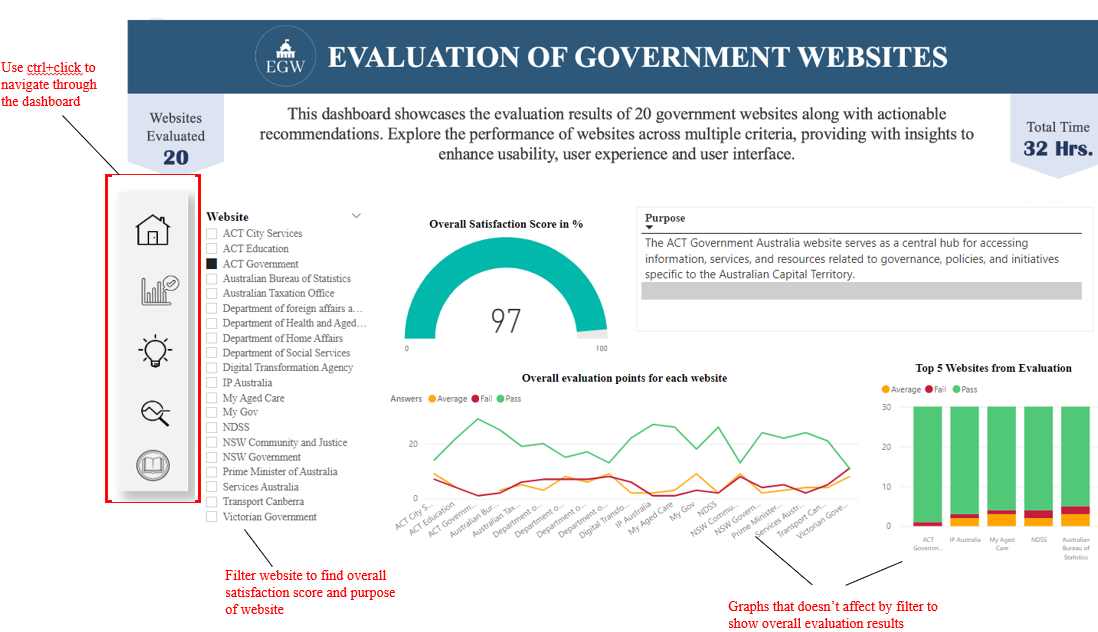

The page's visual inventory and layout, read from the dashboard file:
{"tool":"powerbi","page":{"name":"Homepage","canvas":[1280,720],"ordinal":0},"visuals":[{"type":"tableEx","fields":{"Values":["sheet1final.Purpose"]},"box":[662.6,243.5,584.2,159.2],"z":1000},{"type":"gauge","title":"Overall Satisfaction Score in %","fields":{"Y":["Sum(sheet1final.Satisfaction Score)"],"MinValue":["Sum(Table1.Minimum)"],"MaxValue":["Sum(Table2.Maximum)"]},"box":[361.8,256.4,269.3,185],"z":2000},{"type":"slicer","fields":{"Values":["sheet1final.Website"]},"box":[100,242.5,223.8,436.2],"z":3000},{"type":"columnChart","title":"Top 5 Websites from Evaluation","fields":{"Category":["filtered.Website"],"Y":["Sum(filtered.Average)","Sum(filtered.Fail )","Sum(filtered.Pass)"]},"box":[970.5,441.4,296.2,262.2],"z":4000},{"type":"lineChart","title":"Overall evaluation points for each website","fields":{"Y":["CountNonNull(Website Evaluation (2).Aspects)"],"Series":["Website Evaluation (2).Answers"],"Category":["Website Evaluation (2).Website"]},"box":[343,454.2,607.6,224.8],"z":5000},{"type":"basicShape","box":[0,0,100,40],"z":6000},{"type":"image","box":[0,0,1280.3,243.3],"z":7000},{"type":"textbox","box":[15.9,243.3,68.5,322.8],"z":8000},{"type":"image","box":[27.1,255.7,45.7,58.6],"z":9000},{"type":"image","box":[14.3,391.4,75.7,48.6],"z":10000},{"type":"image","box":[31.4,454.3,41.4,55.7],"z":11000},{"type":"image","box":[31.4,314.3,51.4,65.7],"z":12000},{"type":"image","box":[15.9,511.1,67.3,55],"z":13000}]}

Visuals, with their boxes in screenshot pixels (x1, y1, x2, y2), scaled from the page's 1280x720 canvas onto the 1098x632 screenshot:
tableEx - sheet1final.Purpose: x1=568 y1=214 x2=1070 y2=353
"Overall Satisfaction Score in %" gauge: x1=310 y1=225 x2=541 y2=387
slicer - sheet1final.Website: x1=86 y1=213 x2=278 y2=596
"Top 5 Websites from Evaluation" columnChart: x1=833 y1=387 x2=1087 y2=618
"Overall evaluation points for each website" lineChart: x1=294 y1=399 x2=815 y2=596
basicShape: x1=0 y1=0 x2=86 y2=35
image: x1=0 y1=0 x2=1097 y2=214
textbox: x1=14 y1=214 x2=72 y2=497
image: x1=23 y1=224 x2=62 y2=276
image: x1=12 y1=344 x2=77 y2=386
image: x1=27 y1=399 x2=62 y2=448
image: x1=27 y1=276 x2=71 y2=334
image: x1=14 y1=449 x2=71 y2=497
